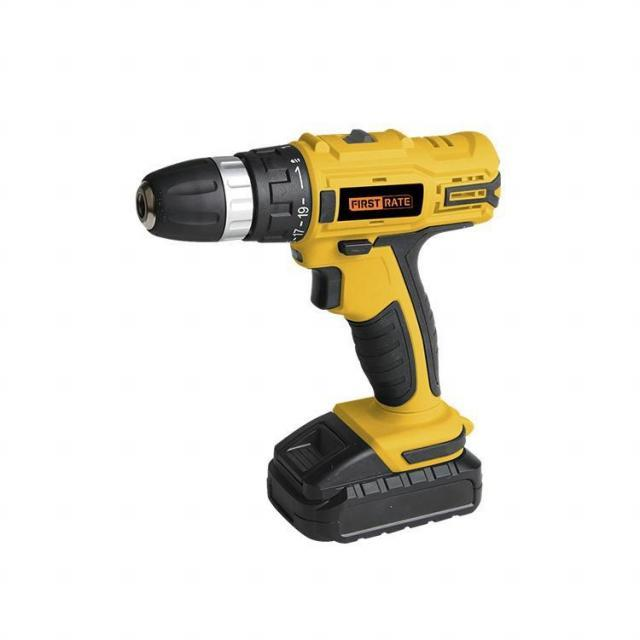drill: (136, 128, 502, 544)
